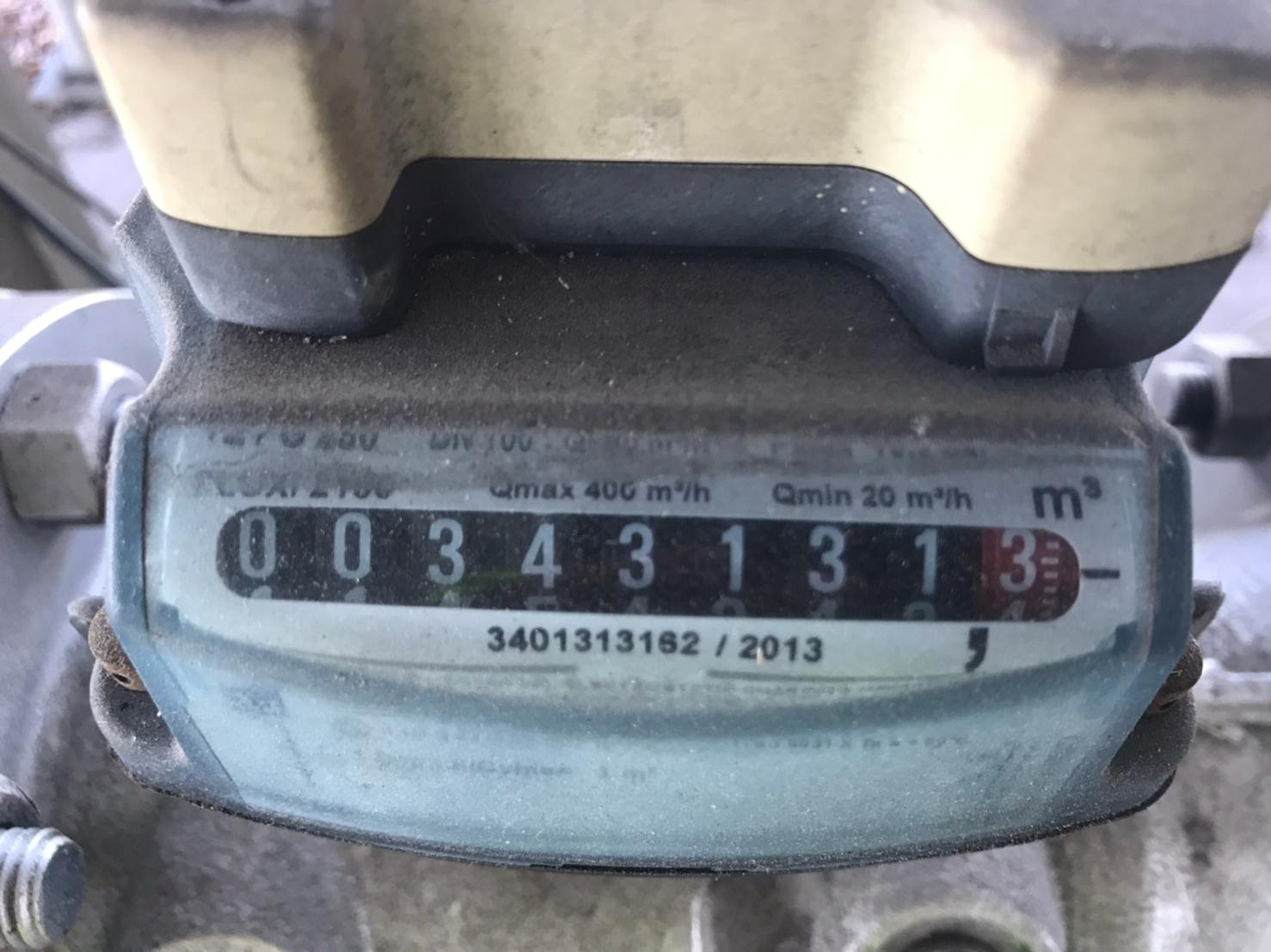analog_dial: (204, 486, 1123, 647)
